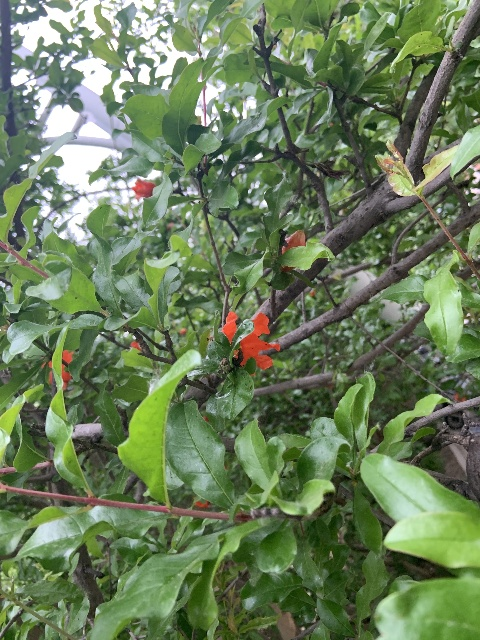bud: (280, 229, 306, 270)
flower: (222, 310, 280, 372), (42, 349, 73, 388), (131, 177, 156, 200), (130, 340, 141, 351)
